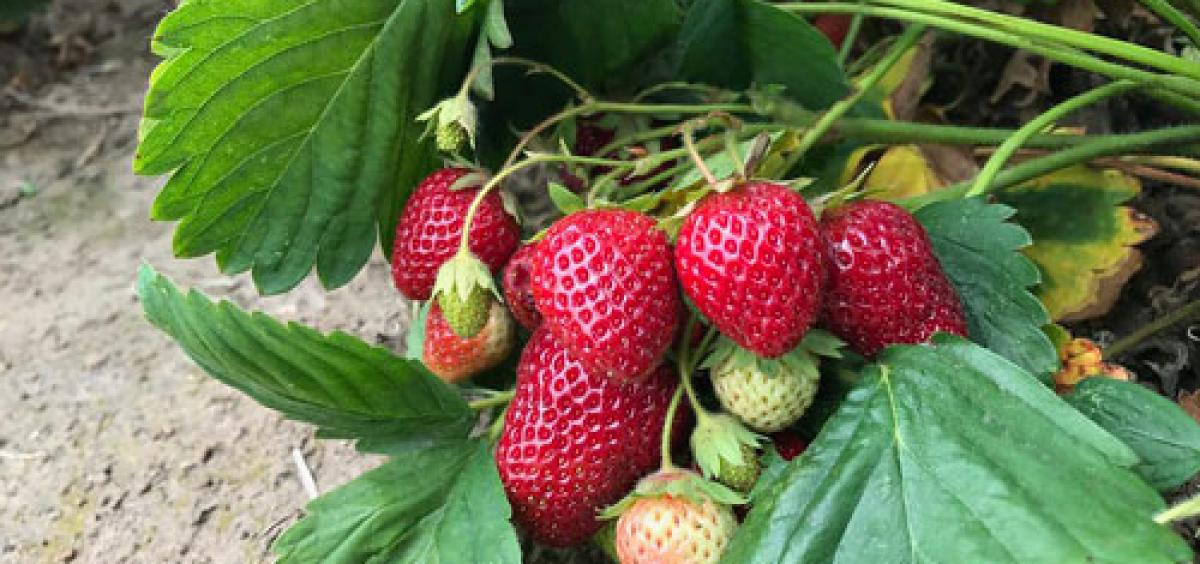ripe: (488, 337, 675, 547), (526, 197, 683, 397), (672, 169, 832, 363), (815, 185, 984, 359), (385, 149, 523, 303)
unripe: (703, 315, 838, 435), (610, 465, 742, 562), (419, 286, 519, 383), (694, 412, 773, 501), (435, 248, 492, 344), (429, 97, 479, 154)
